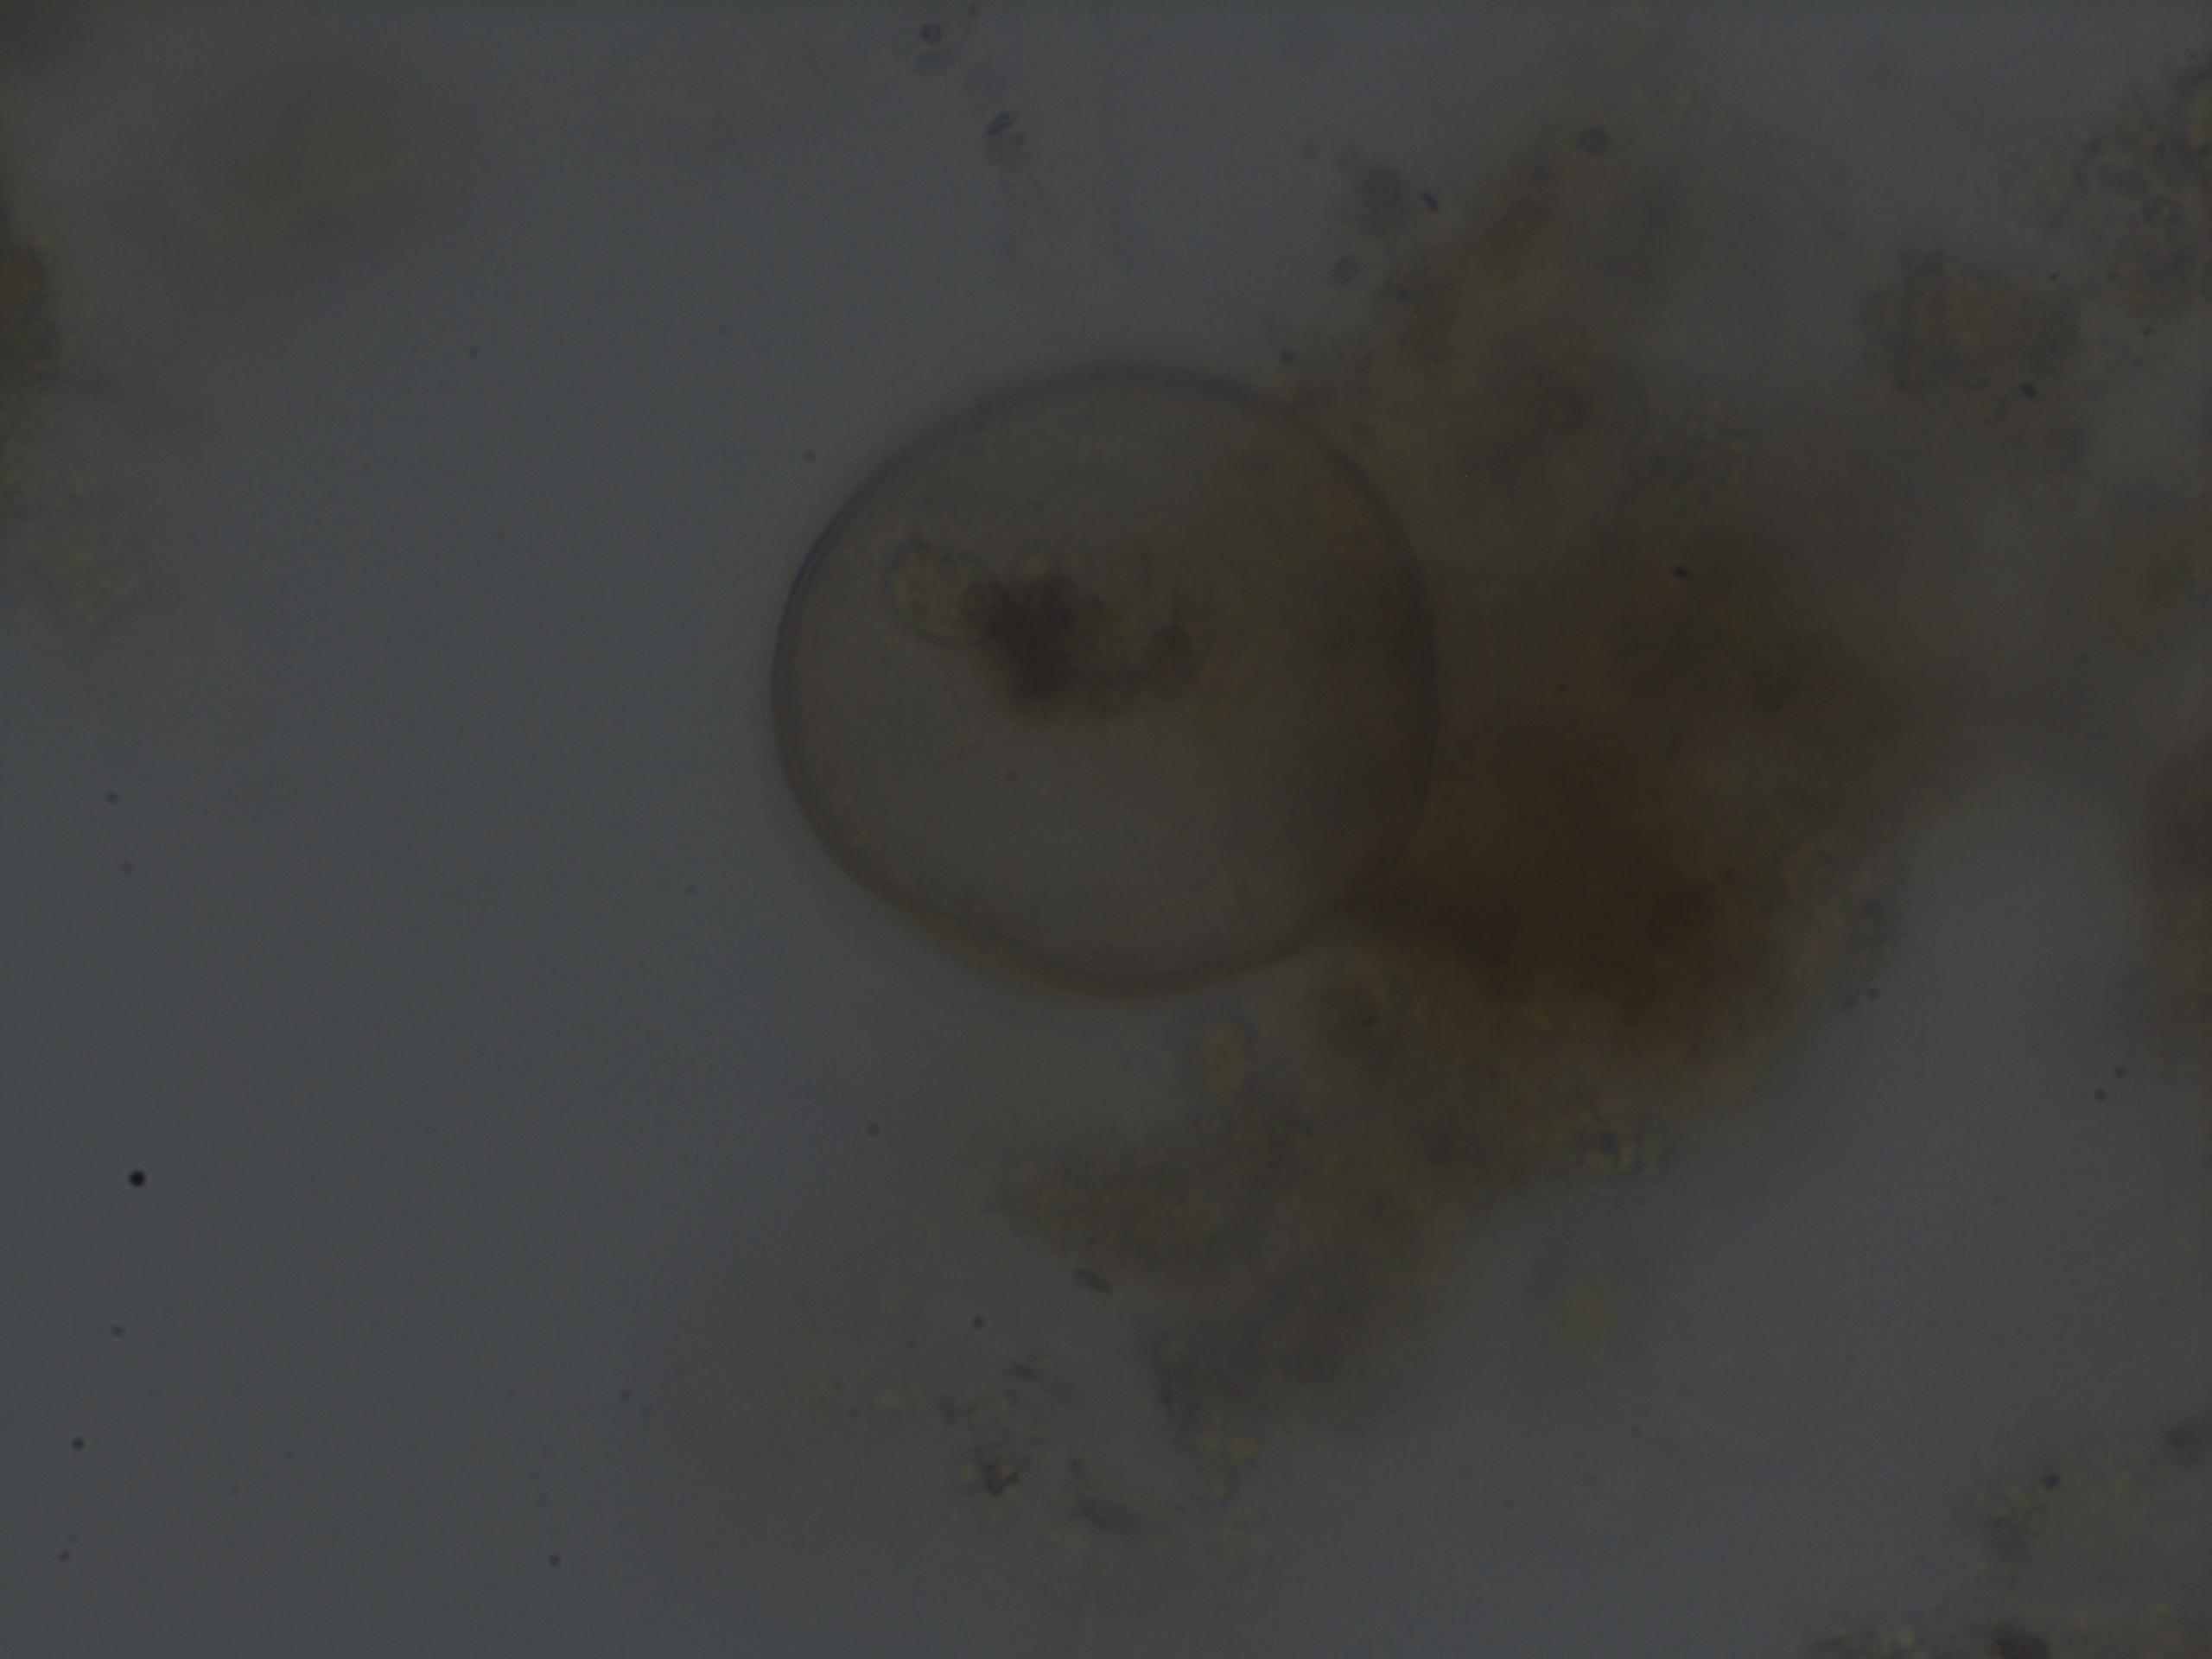protozoa: (749, 350, 1463, 993)
